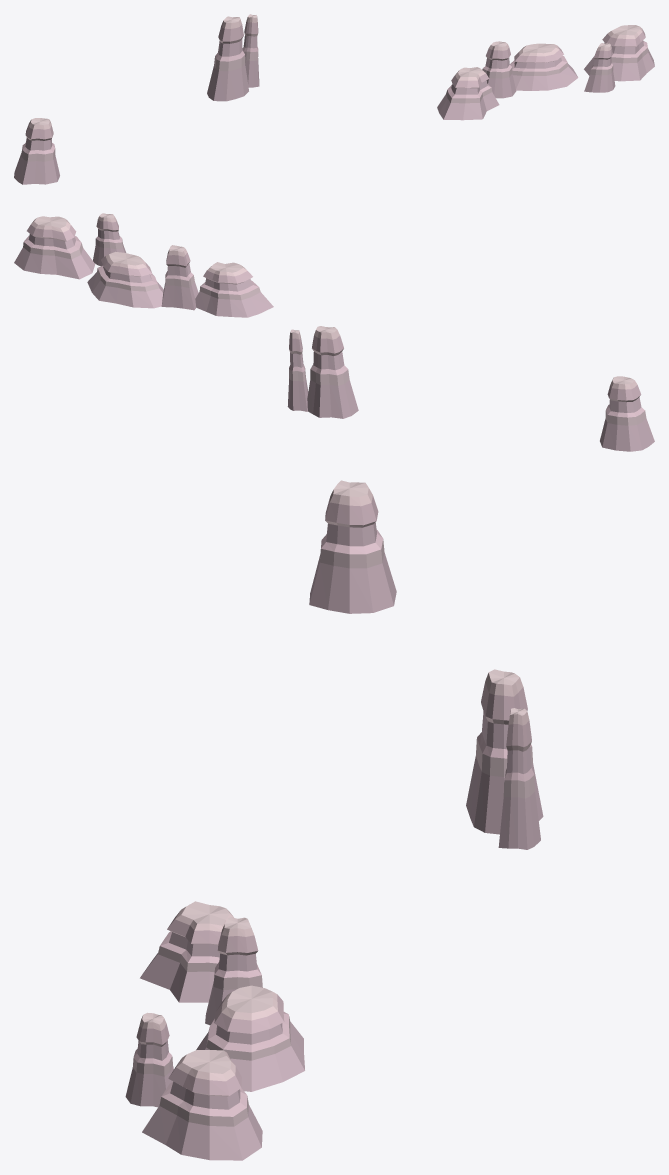
File: SaltNeedles.glb
The picture shows the model from 3 angles, top to bottom: view 1: azimuth 30°, elevation 25°; view 2: azimuth 150°, elevation 25°; view 3: azimuth 270°, elevation 25°; orthographic projection. The views are drawn at different scales.
Parts seen in each view (by area): view 1: SaltNeedles; view 2: SaltNeedles; view 3: SaltNeedles.
Boxes of the visible parts, x1,y1,x2,y2 form: SaltNeedles: (14,14,654,184); SaltNeedles: (14,213,654,451); SaltNeedles: (125,480,543,1160).
Size of the model in its own units: 99.05 by 11.49 by 29.81.
